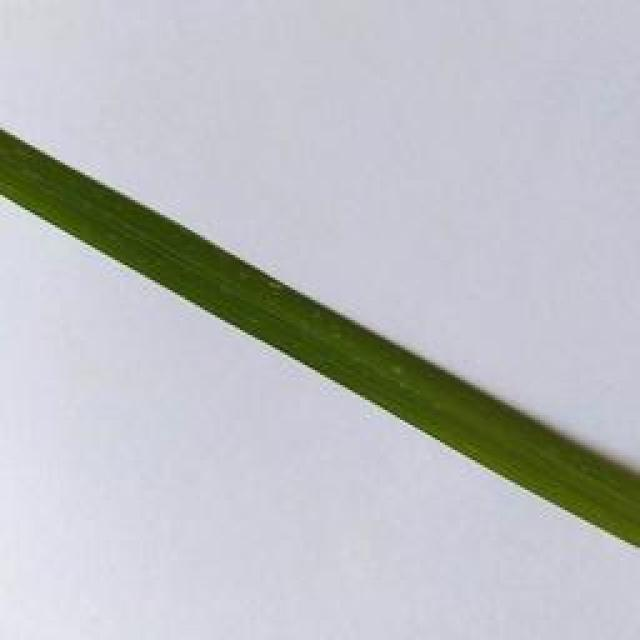Healthy-Plant: (8, 140, 324, 353)
